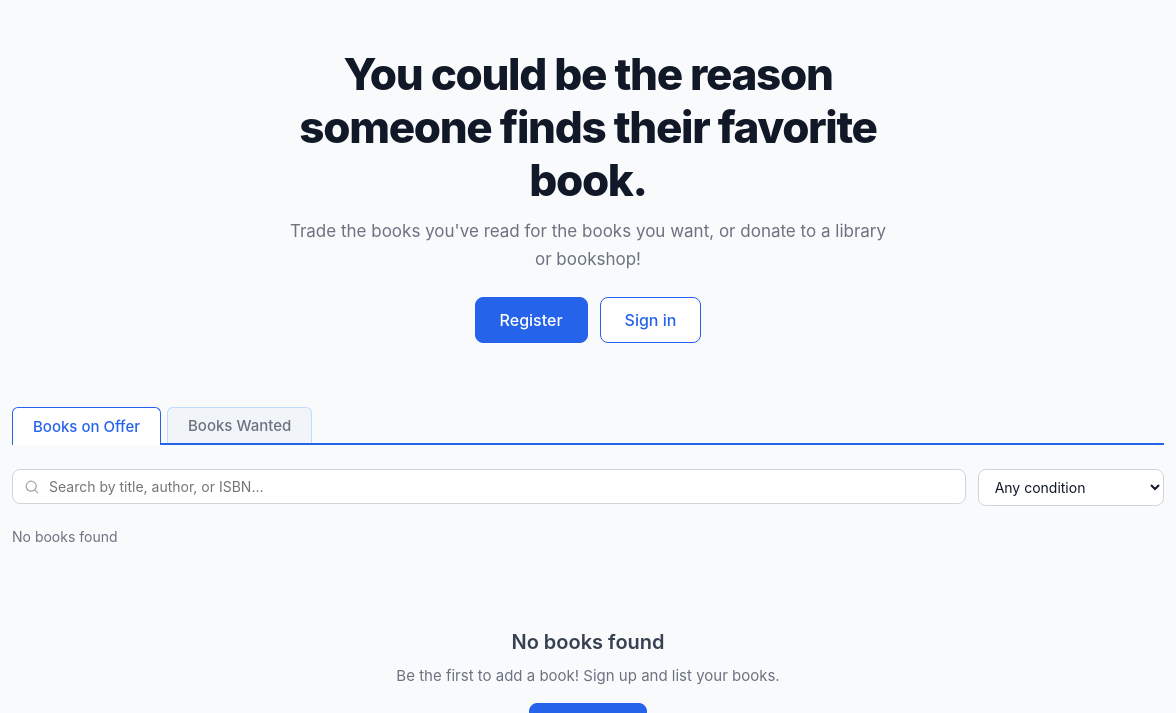
Home page › shows "Try adjusting" subtitle when search is active but no books found
Expected: the text "Be the first to add a book! Sign up and list your books." is shown, [396,666,780,685]
Type "x" into the search field named "Search books" at point(489, 486), box [12,469,966,504]
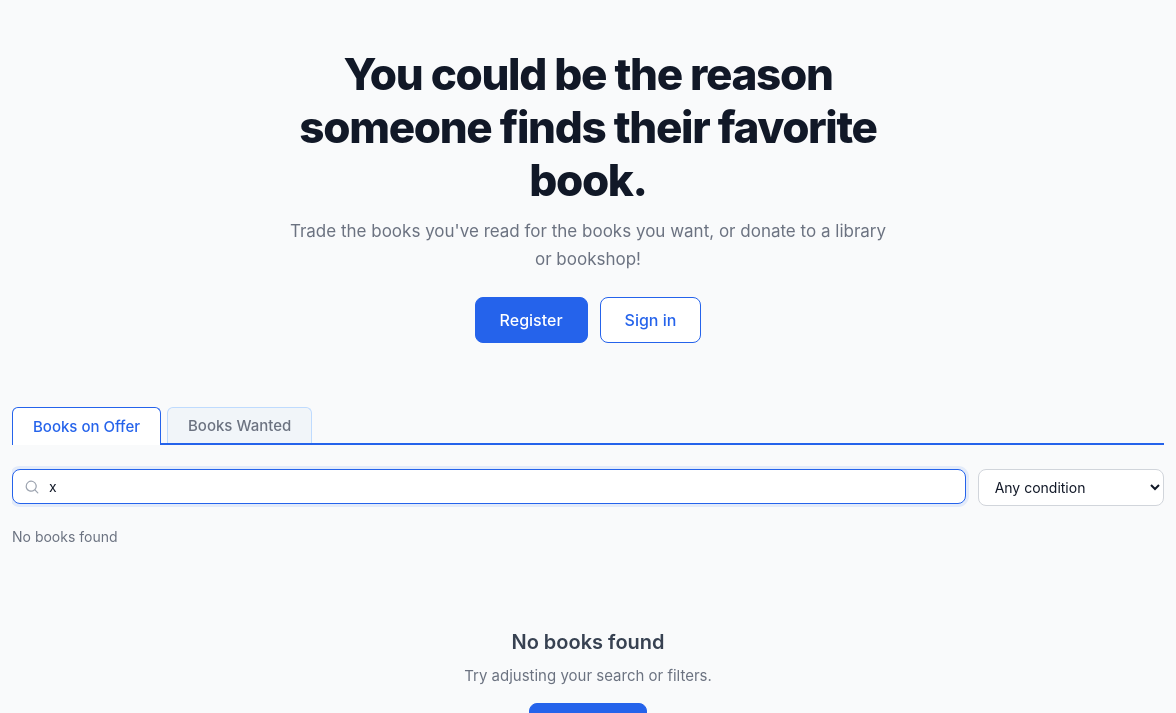
Expected: the text "Try adjusting your search or filters." is shown, [464,666,712,685]
